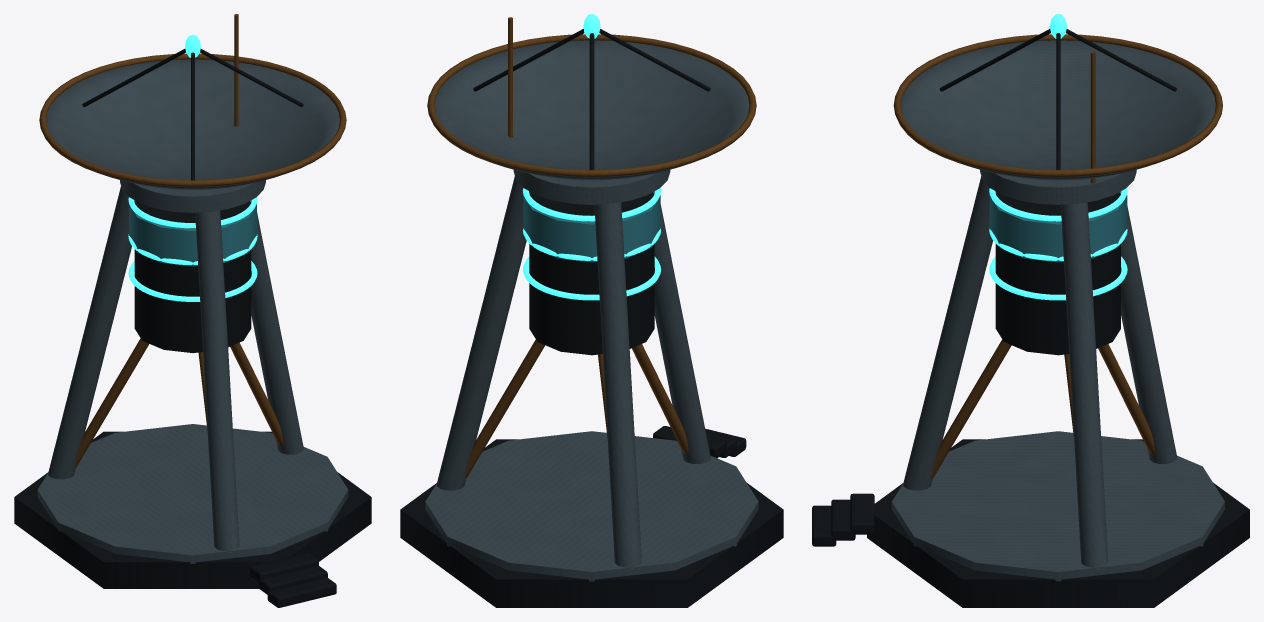
The model's file is 05_alien_watchtower_v2_radar.glb.
3 views of the same model, side by side, from view 1: azimuth 30°, elevation 25°; view 2: azimuth 150°, elevation 25°; view 3: azimuth 270°, elevation 25° (orthographic). The views are drawn at different scales.
Visible parts, largest first — view 1: 05_alien_watchtower_v2_radar | Tower | brushed titanium, 05_alien_watchtower_v2_radar | Tower | graphite armor, 05_alien_watchtower_v2_radar | Tower | oxidized bronze, Radar | glazed instrument bay, 05_alien_watchtower_v2_radar | Tower | cyan luminescent cera; view 2: 05_alien_watchtower_v2_radar | Tower | brushed titanium, 05_alien_watchtower_v2_radar | Tower | graphite armor, 05_alien_watchtower_v2_radar | Tower | oxidized bronze, Radar | glazed instrument bay, 05_alien_watchtower_v2_radar | Tower | cyan luminescent cera; view 3: 05_alien_watchtower_v2_radar | Tower | brushed titanium, 05_alien_watchtower_v2_radar | Tower | graphite armor, 05_alien_watchtower_v2_radar | Tower | oxidized bronze, Radar | glazed instrument bay, 05_alien_watchtower_v2_radar | Tower | cyan luminescent cera.
Part boxes in pixels (x1,y1,x2,y2): 05_alien_watchtower_v2_radar | Tower | brushed titanium: (37,59,348,563); 05_alien_watchtower_v2_radar | Tower | graphite armor: (14,49,371,607); 05_alien_watchtower_v2_radar | Tower | oxidized bronze: (39,14,346,468); Radar | glazed instrument bay: (129,200,256,266); 05_alien_watchtower_v2_radar | Tower | cyan luminescent cera: (128,34,257,301); 05_alien_watchtower_v2_radar | Tower | brushed titanium: (425,40,758,581); 05_alien_watchtower_v2_radar | Tower | graphite armor: (400,29,783,607); 05_alien_watchtower_v2_radar | Tower | oxidized bronze: (427,17,756,478); Radar | glazed instrument bay: (523,191,660,262); 05_alien_watchtower_v2_radar | Tower | cyan luminescent cera: (522,14,661,300); 05_alien_watchtower_v2_radar | Tower | brushed titanium: (891,40,1224,581); 05_alien_watchtower_v2_radar | Tower | graphite armor: (812,29,1249,607); 05_alien_watchtower_v2_radar | Tower | oxidized bronze: (893,34,1222,478); Radar | glazed instrument bay: (989,191,1127,262); 05_alien_watchtower_v2_radar | Tower | cyan luminescent cera: (989,14,1127,300).
Bounding box in the file's own units: 3.83 × 6.64 × 5.03.
Materials: 5 (3 with a texture image).
